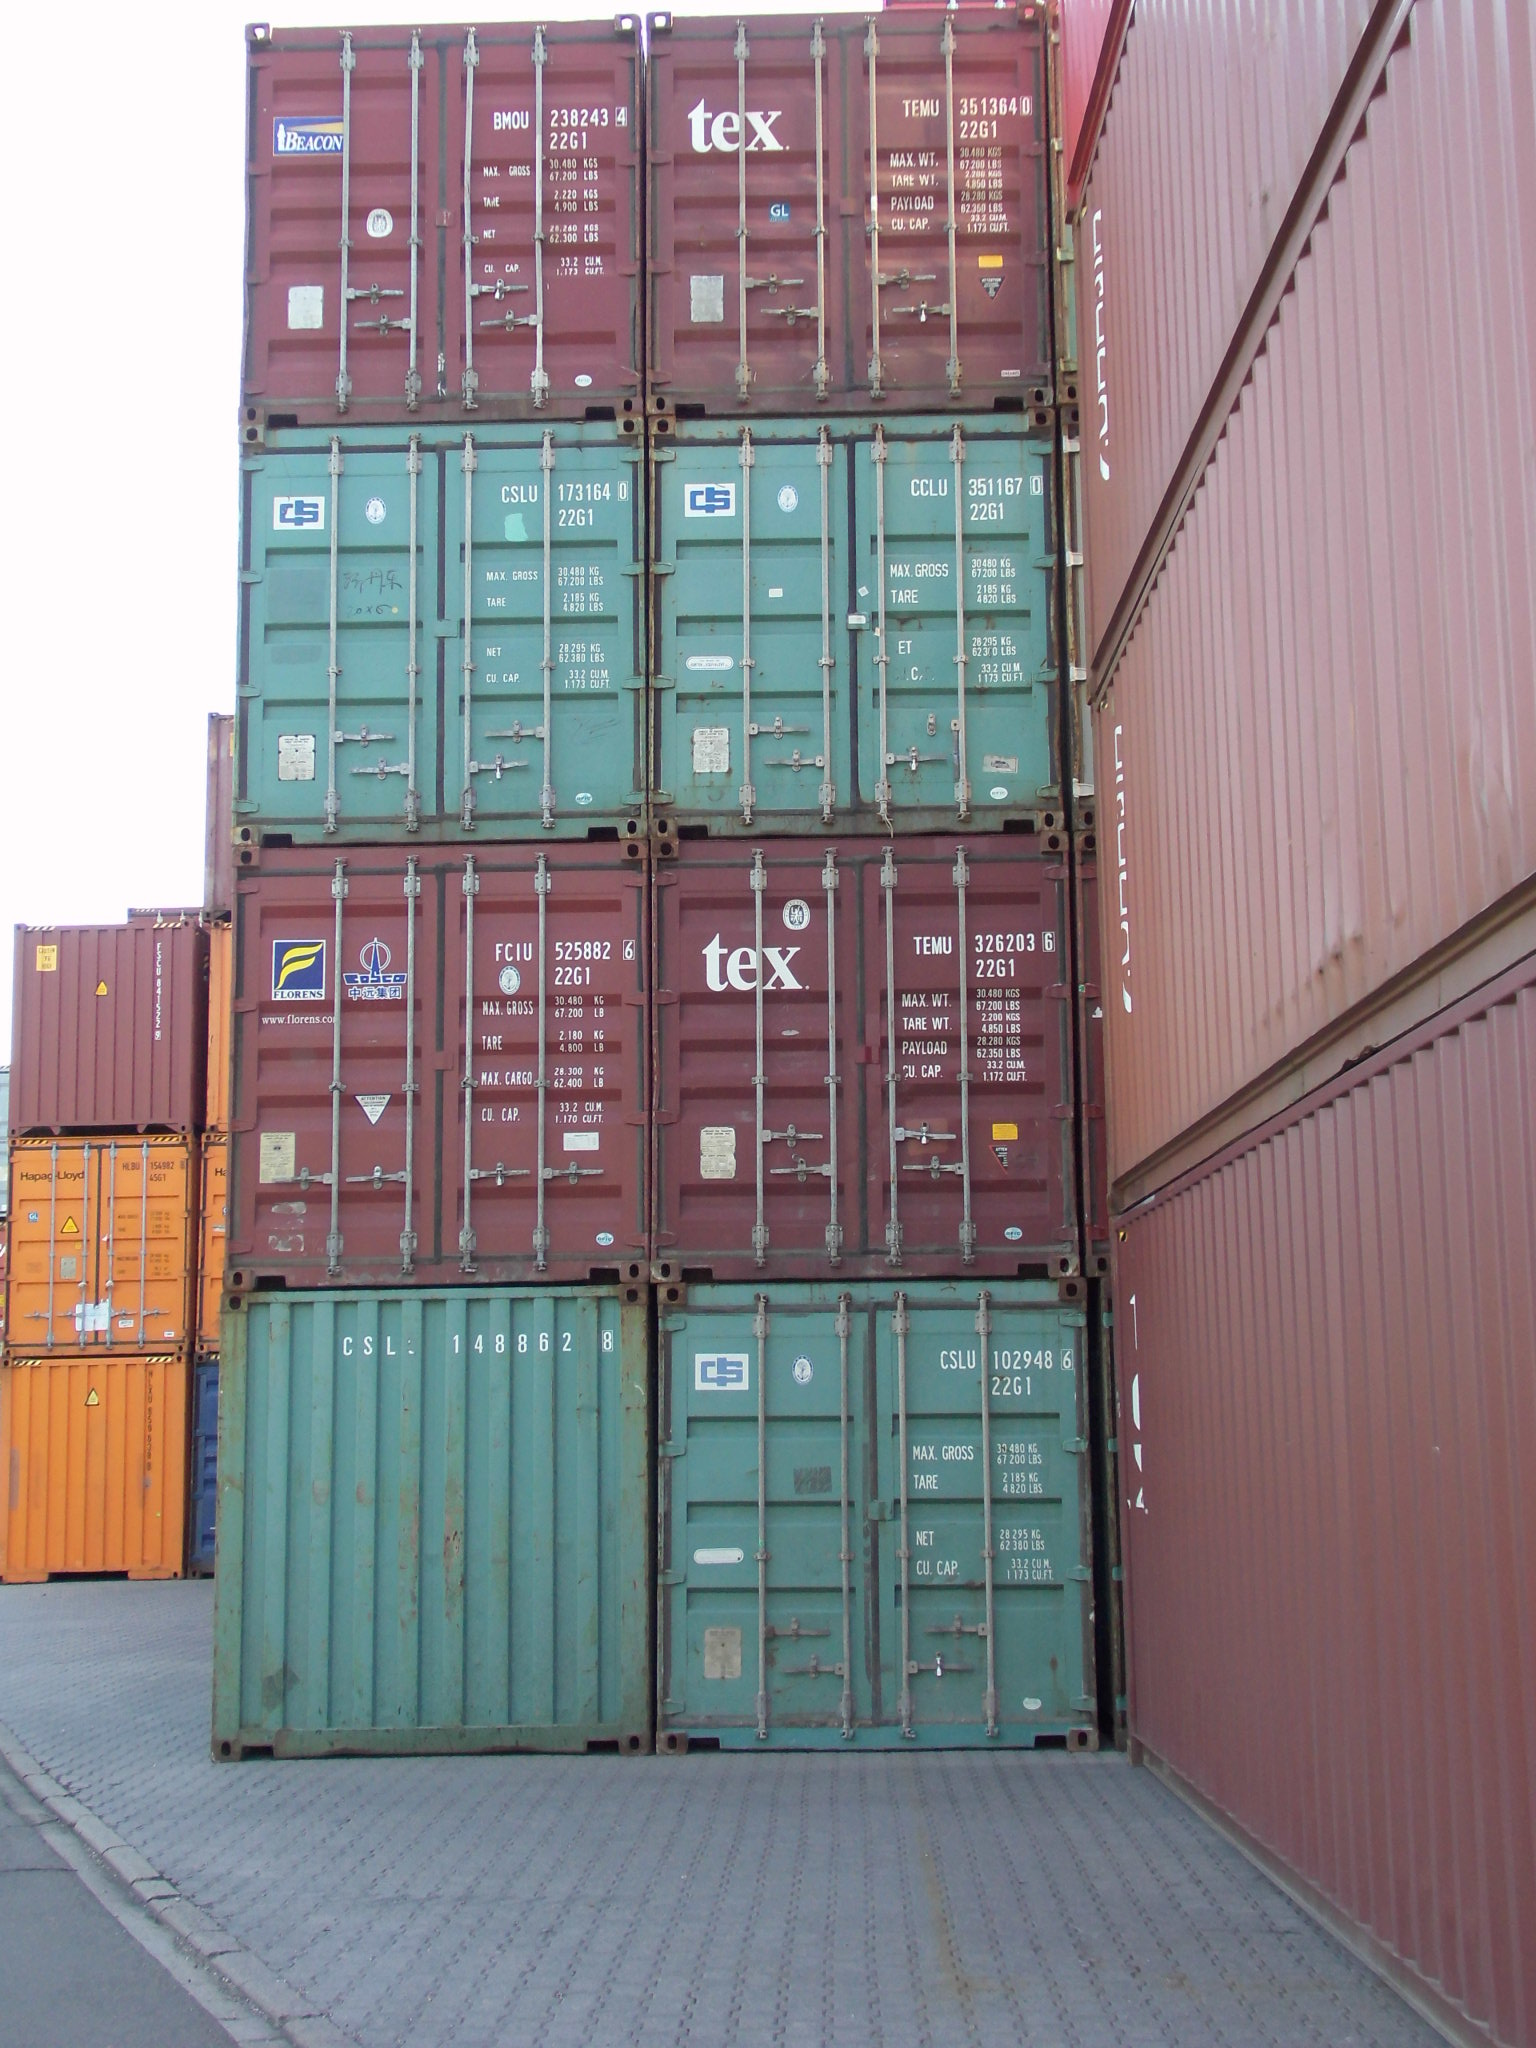container_door: (652, 832, 1079, 1288), (662, 1279, 1087, 1734), (242, 827, 650, 1285), (239, 19, 642, 423), (657, 6, 1060, 410), (652, 421, 1055, 824), (242, 426, 644, 827), (8, 1142, 195, 1351)
container_no_door: (236, 1297, 665, 1751), (8, 922, 194, 1142), (2, 1363, 186, 1584)
